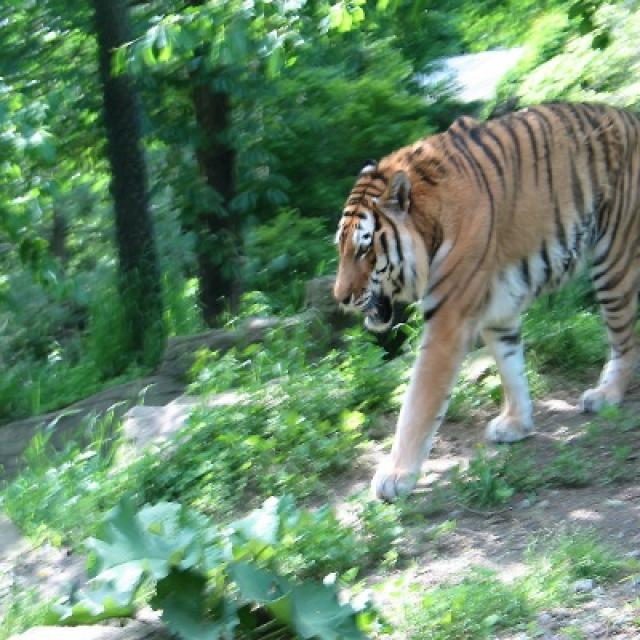Tiger: (330, 101, 638, 506)
